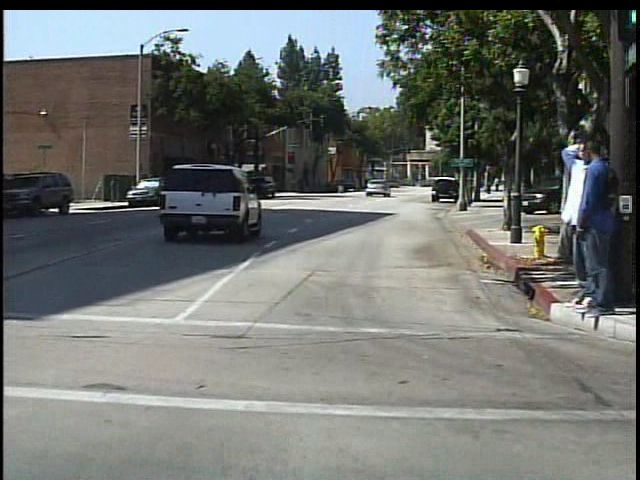person: (571, 139, 611, 321), (552, 140, 593, 314), (333, 174, 347, 196)
